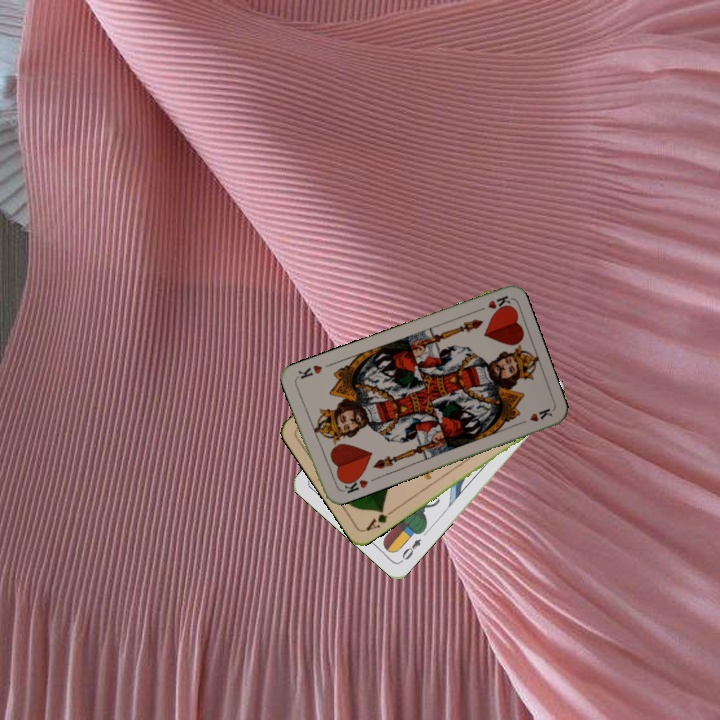EO: (398, 534, 424, 562)
GA: (362, 505, 397, 534)
HK: (472, 291, 513, 315), (337, 471, 371, 496)
